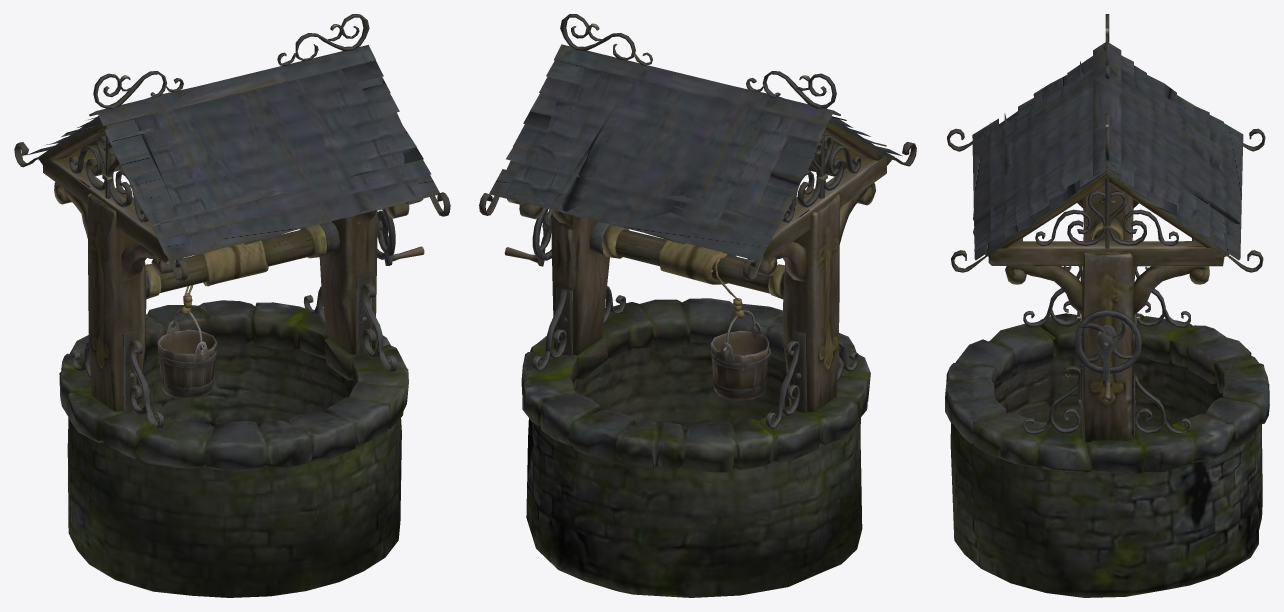
File: well.glb
3 renders of one model, left to right at view 1: azimuth 30°, elevation 25°; view 2: azimuth 150°, elevation 25°; view 3: azimuth 270°, elevation 25°, orthographic. The views are drawn at different scales.
Parts seen in each view (by area): view 1: well_p2; view 2: well_p2; view 3: well_p2.
Part boxes in pixels (left/top/right/bottom): well_p2: left=14, top=14, right=450, bottom=597; well_p2: left=479, top=14, right=916, bottom=597; well_p2: left=945, top=14, right=1269, bottom=597.
Size of the model in its own units: 1.3 by 1.77 by 1.13.
Materials: 1 (1 with a texture image).
